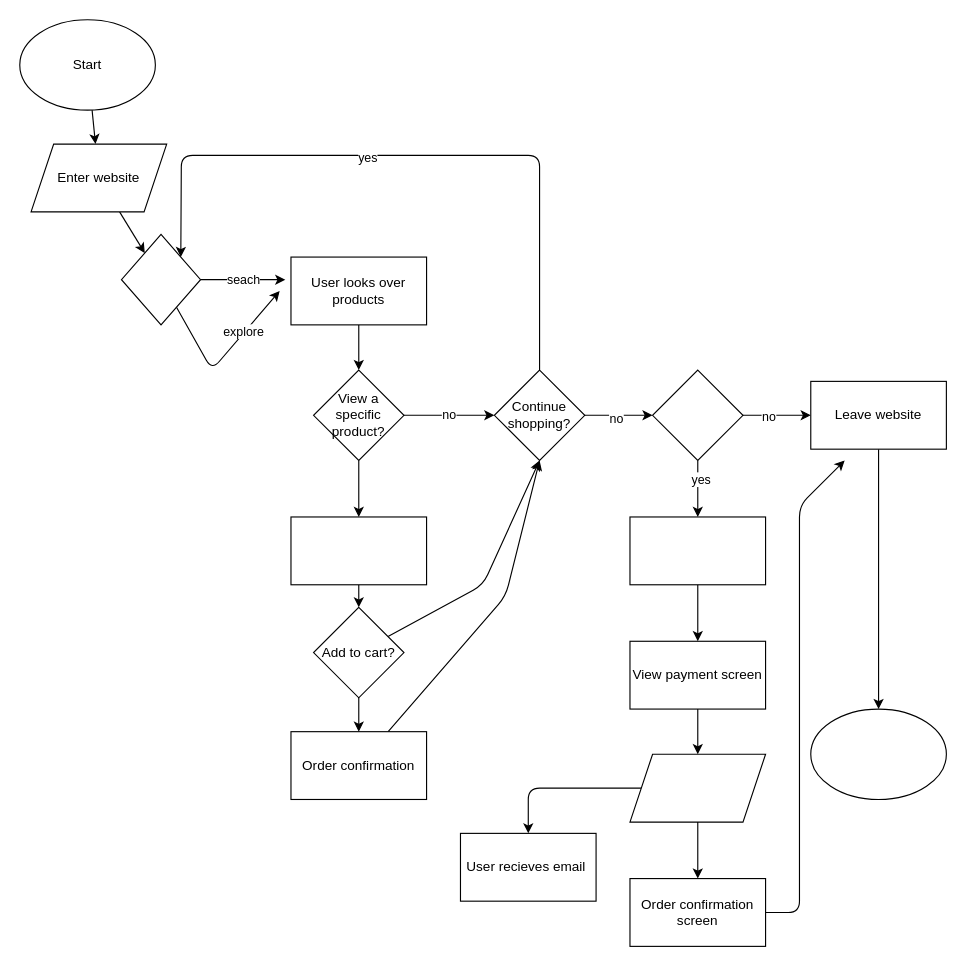
The diagram is 966 pixels wide and 966 high, and some of its shapes have lost their labels. The shapes that lost their labels are listed below. From the top down, each one's centre as x and y in pixels, then its label:
At (x=160, y=279): "search/explore for product".
At (x=697, y=414): "Checkout?".
At (x=358, y=550): "Open Product Webpage".
At (x=697, y=550): "View cart screen".
At (x=878, y=753): "End".
At (x=697, y=787): "User gives input of their payment information".
